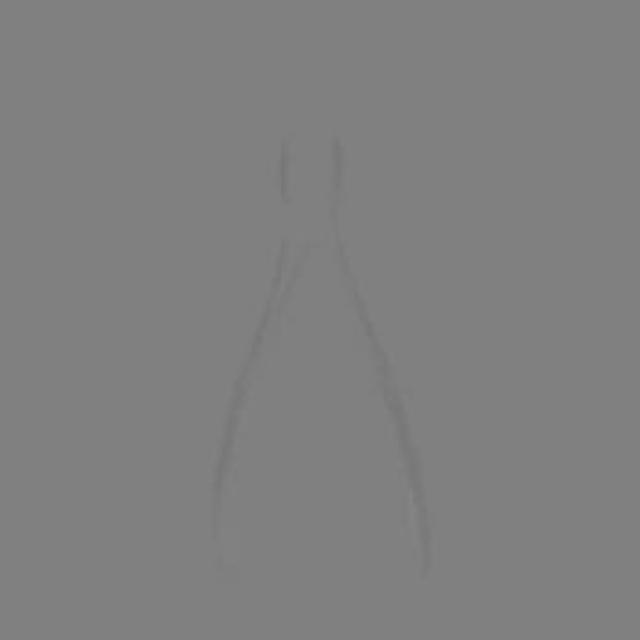forceps: (186, 85, 465, 591)
